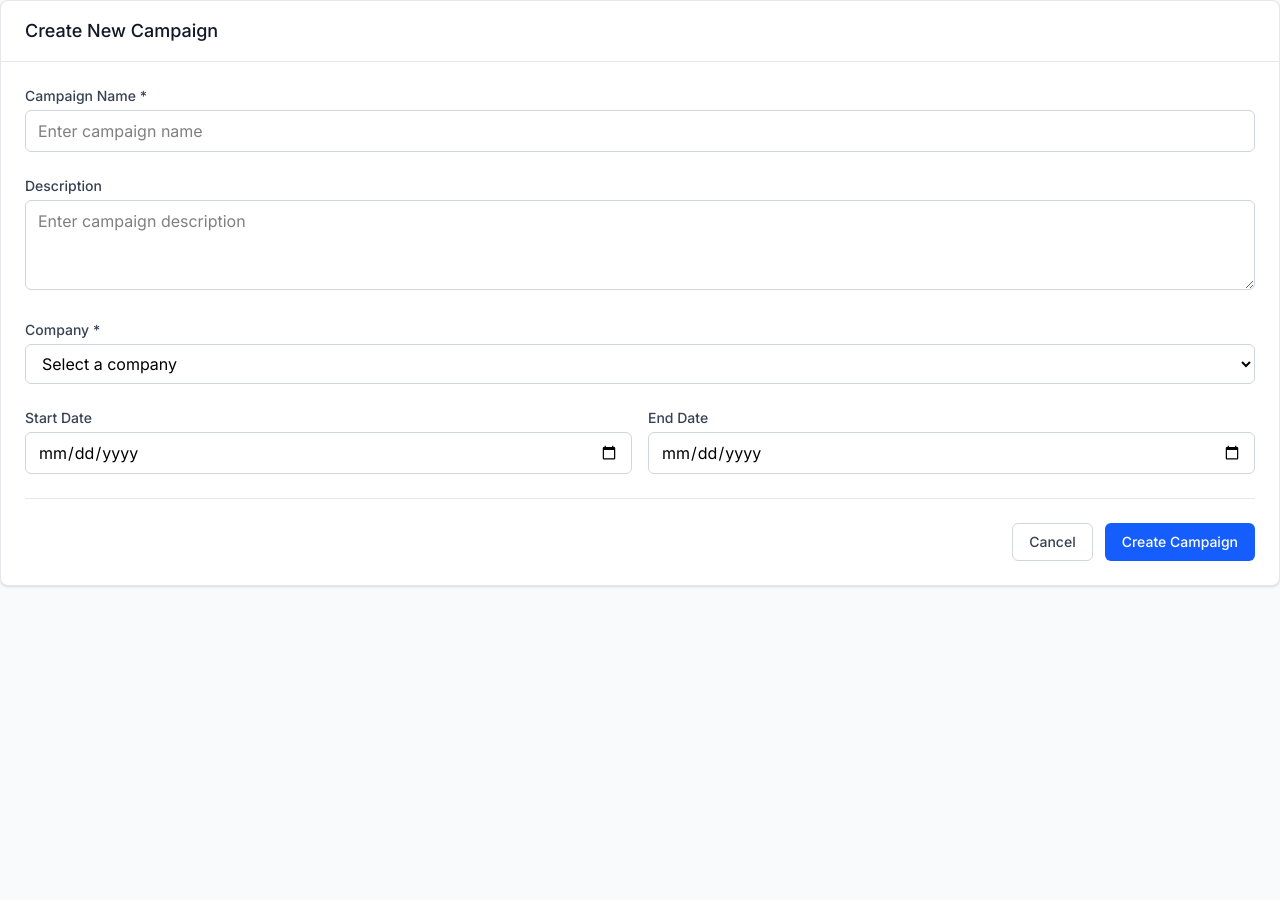
Test: CampaignForm › Error Handling › displays error message when campaign creation fails
Expected: the heading "Create New Campaign" is shown, [25, 20, 218, 41]
# Fill out valid form
Step 1. Type "Test Campaign" into the field labelled "Campaign Name *" → (640, 131), box [25, 110, 1255, 152]
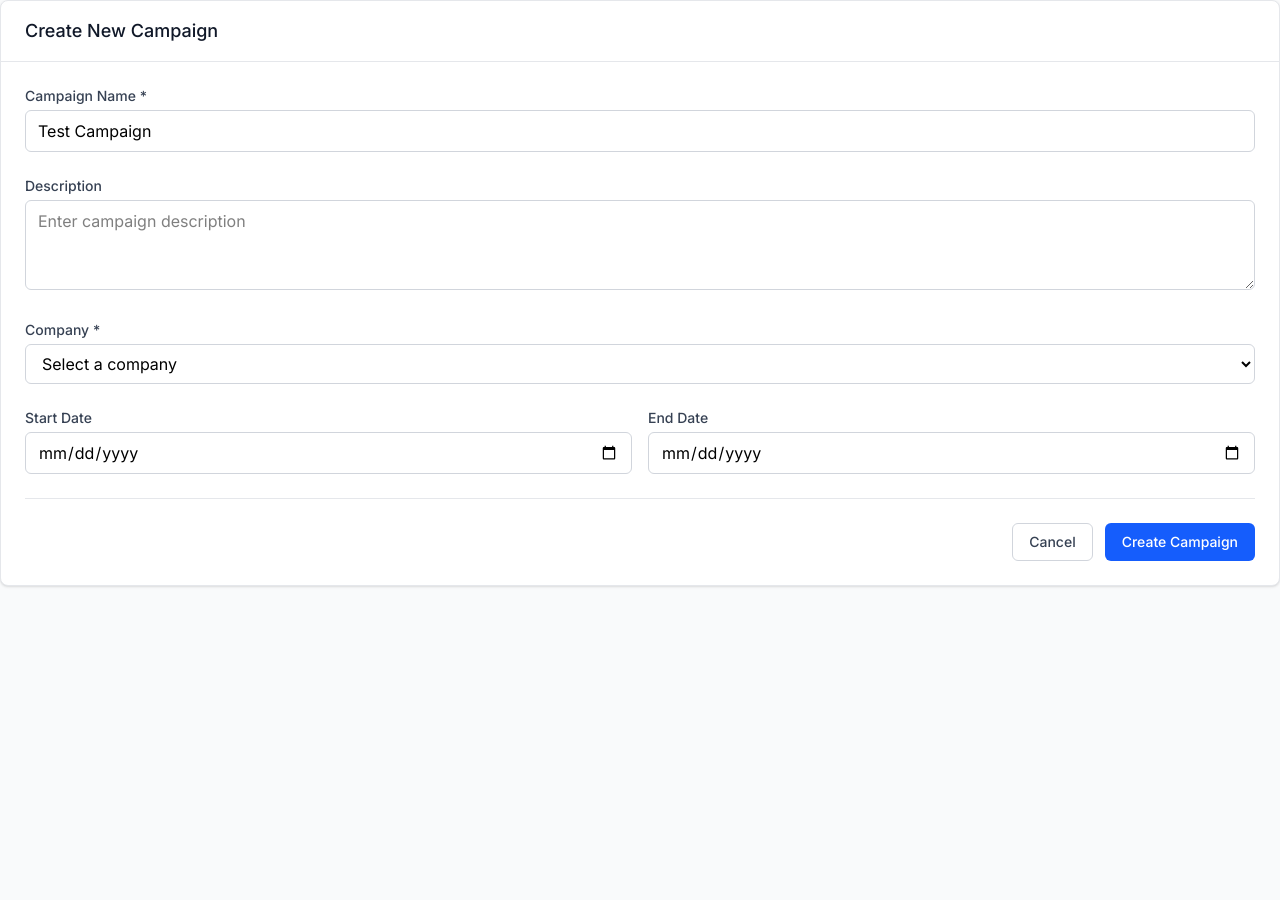
Step 2. Select "Test Company 1" in the dropdown labelled "Company *" → (640, 364), box [25, 344, 1255, 384]
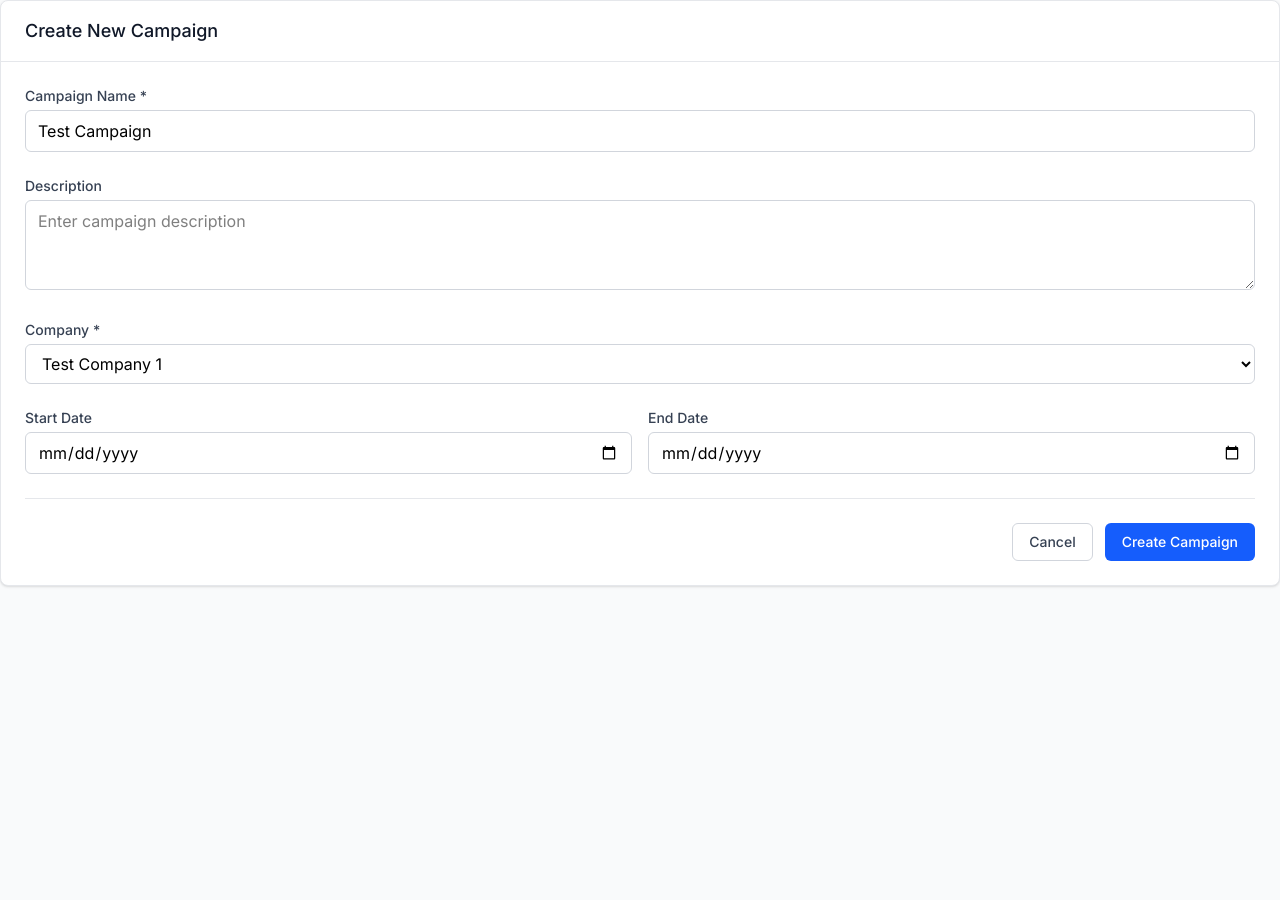
Step 3. Click the button "Create Campaign" → (1180, 542), box [1105, 523, 1255, 561]
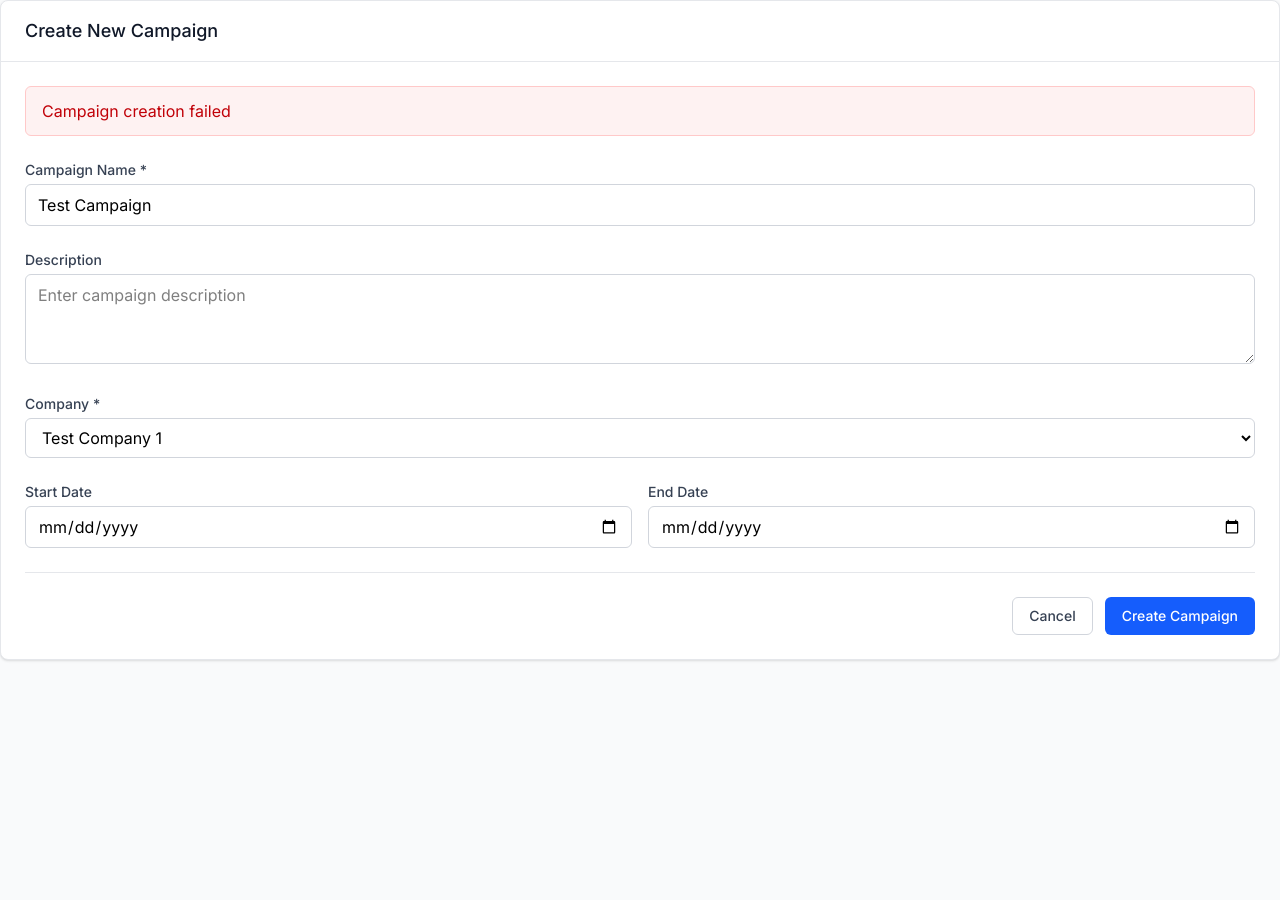
Expected: the text "Campaign creation failed" is shown, [25, 86, 1255, 136]
